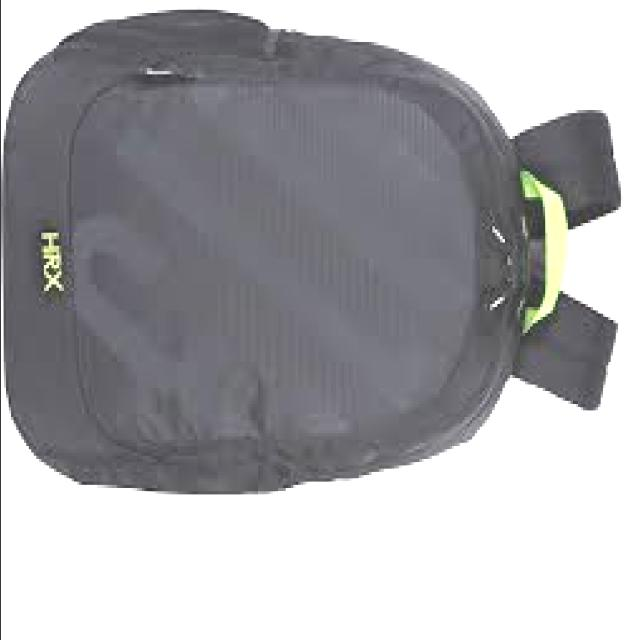backpack: (4, 8, 624, 496)
